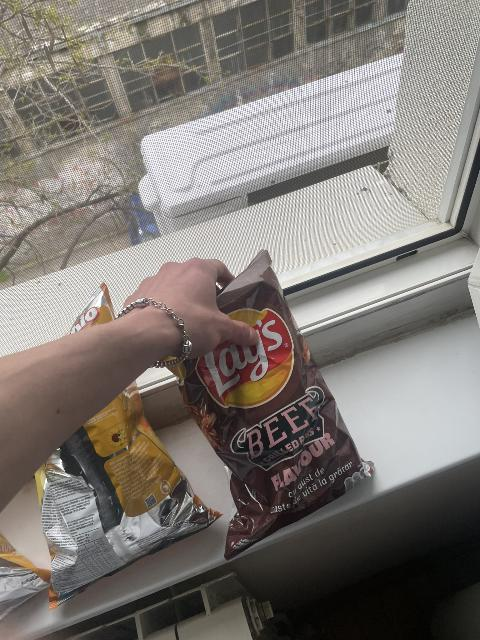Chio Cascaval 125g: (21, 280, 233, 605)
Chio Hula Hoops Cheese 70g: (1, 521, 54, 619)
Lays Beef Grilled Ribs 125g: (172, 264, 368, 551)
